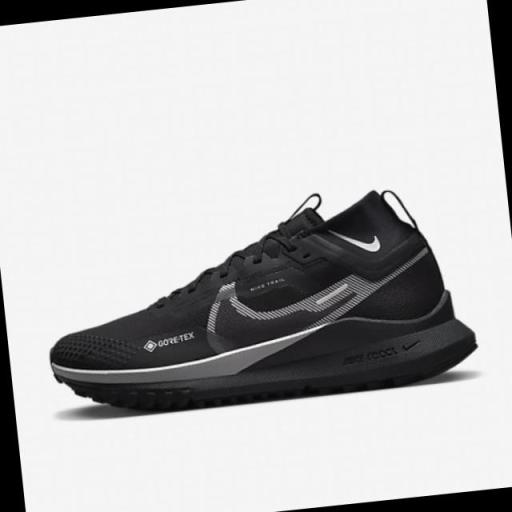Nike: (322, 220, 387, 261)
